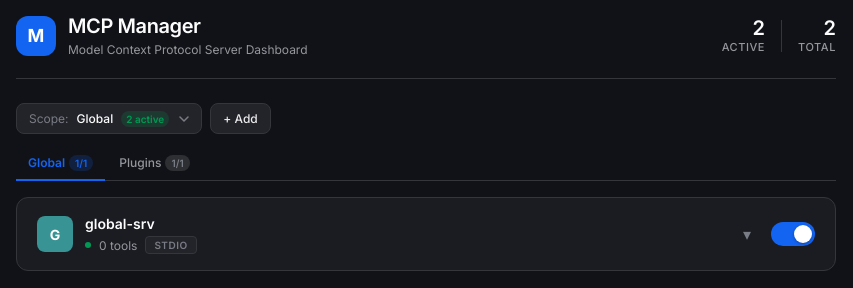
Tab navigation › switches between tabs to show different servers
Expected: the text "global-srv" is shown, [85,215,155,232]
// Switch to Plugins tab
Click the button "Plugins 1/1" at (154, 164), box [107,146,202,181]
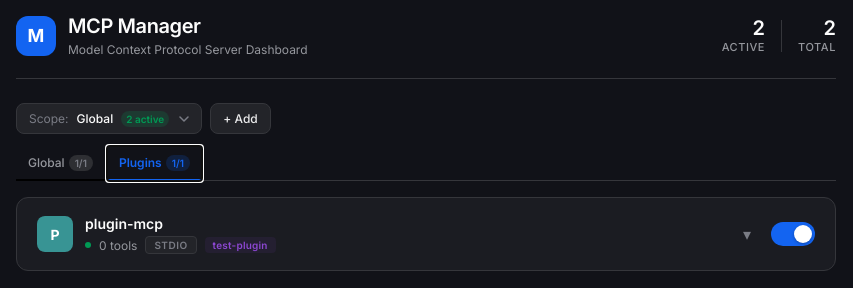
Now the text "plugin-mcp" is shown, box [85,215,163,232]
Now the text "global-srv" is gone
